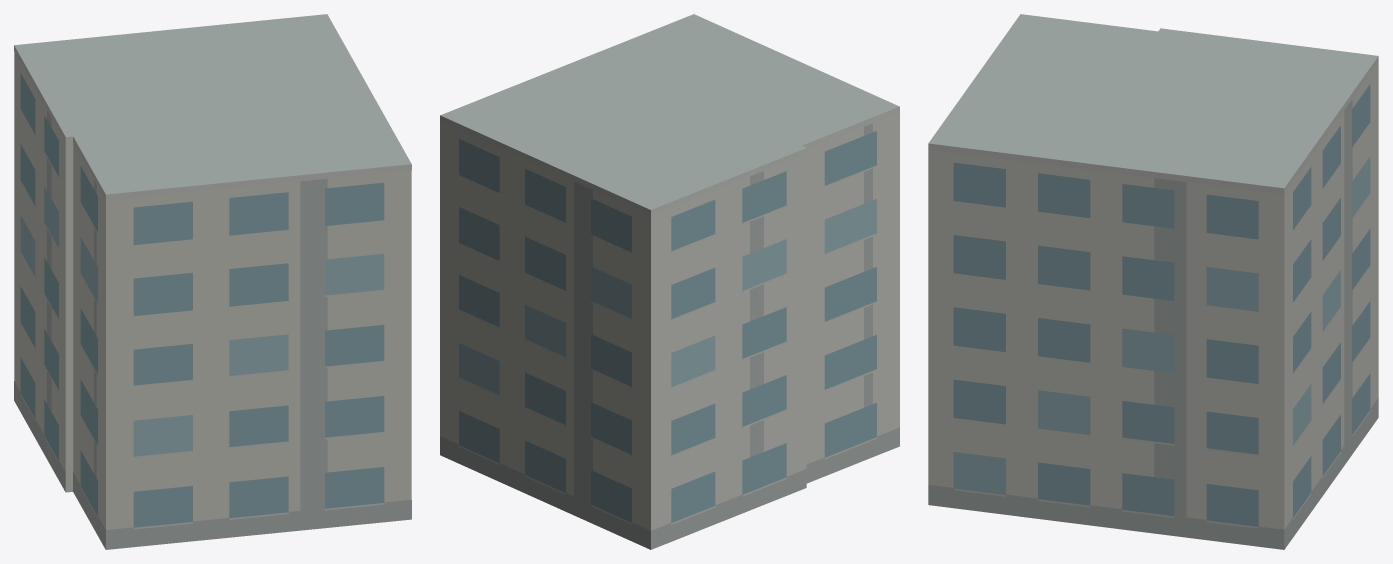
The model's file is survey-upis-32869390.glb.
3 views of the same model, side by side, from view 1: azimuth 30°, elevation 25°; view 2: azimuth 150°, elevation 25°; view 3: azimuth 270°, elevation 25° (orthographic). The views are drawn at different scales.
Parts seen in each view (by area): view 1: survey-upis-32869390.tmp; view 2: survey-upis-32869390.tmp; view 3: survey-upis-32869390.tmp.
Boxes of the visible parts, x1,y1,x2,y2 form: survey-upis-32869390.tmp: (14, 14, 411, 549); survey-upis-32869390.tmp: (440, 14, 899, 549); survey-upis-32869390.tmp: (928, 14, 1378, 549).
Size of the model in its own units: 14.69 by 14.2 by 16.04.
